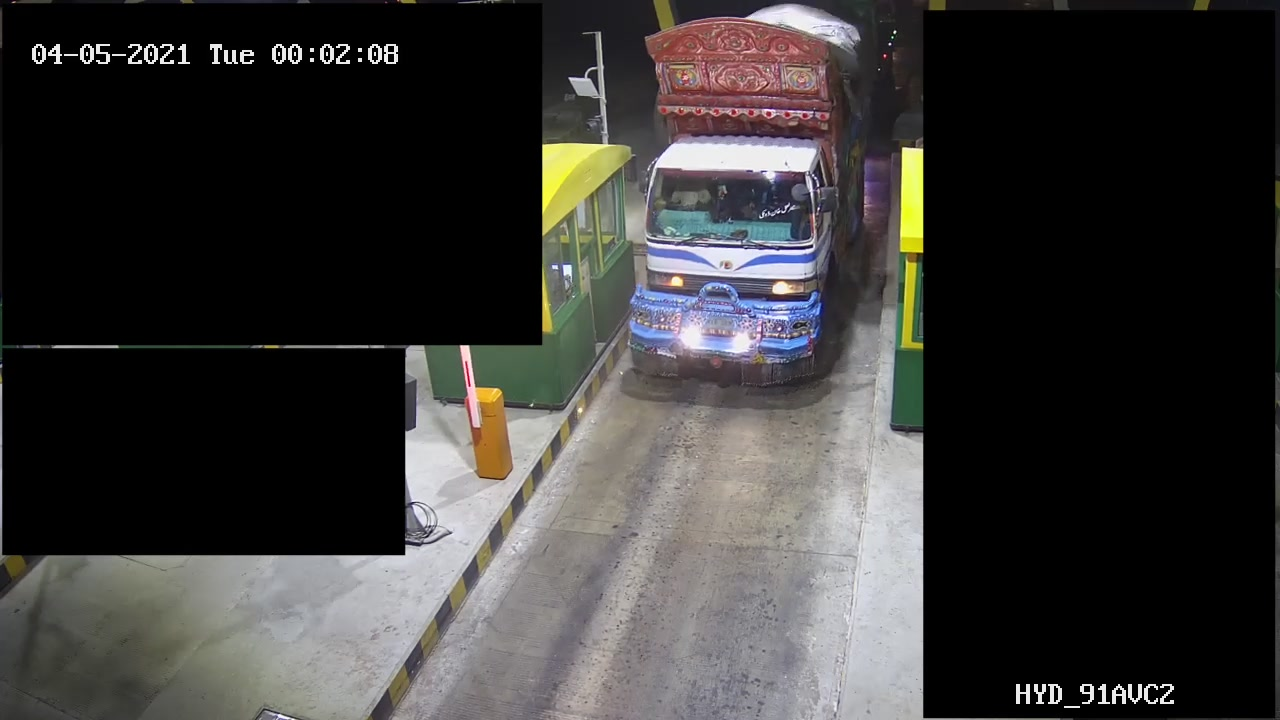F5: (625, 1, 880, 406)
